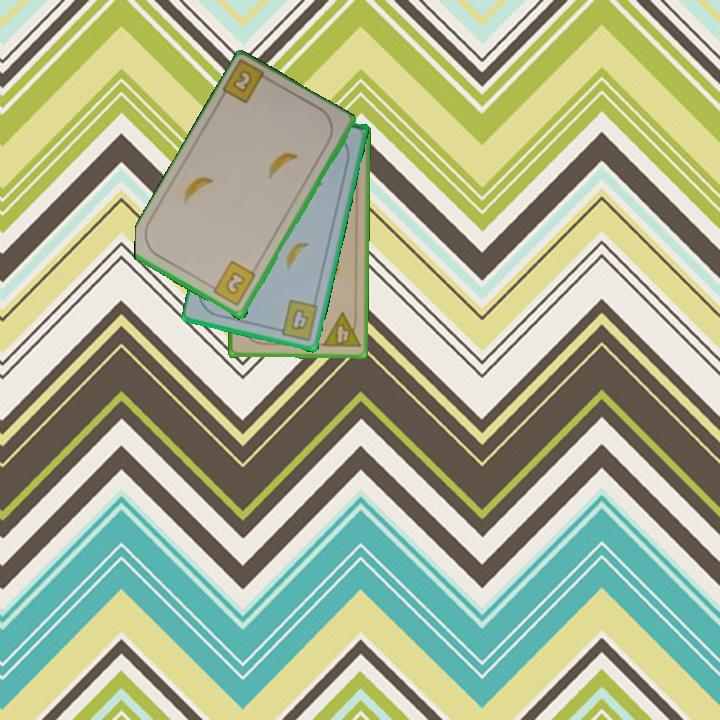2b: (205, 258, 259, 309), (219, 59, 276, 107)
4b: (271, 296, 321, 343)
4p: (319, 309, 363, 351)
